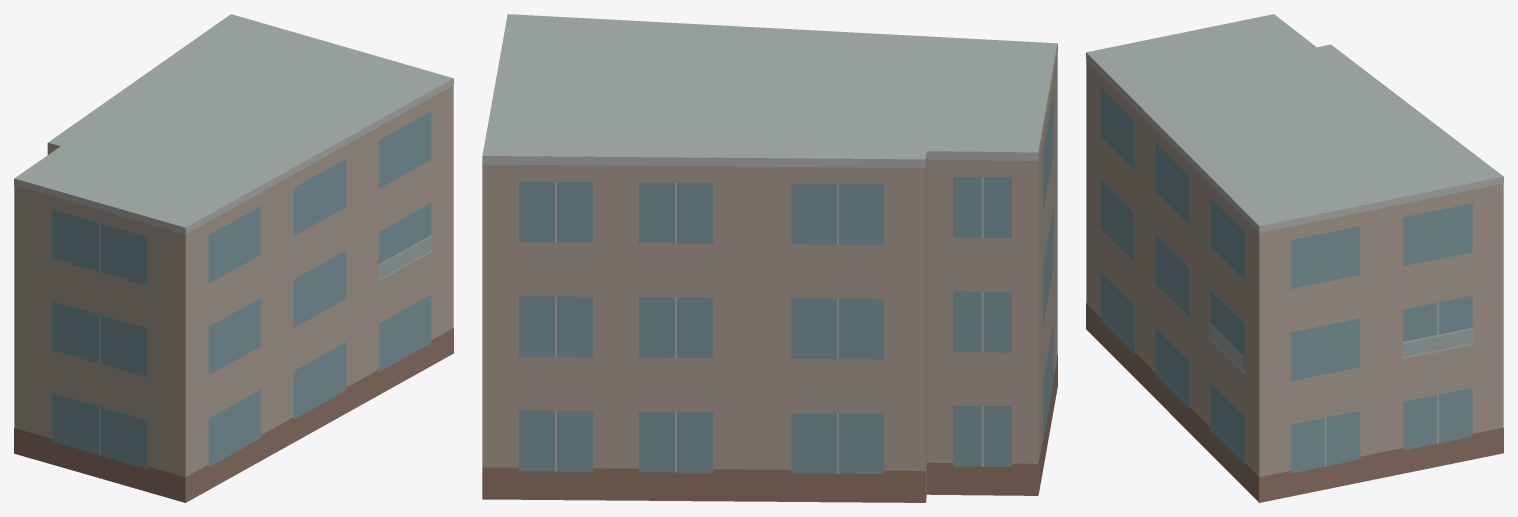
The model's file is survey-upis-33029918.glb.
3 views of the same model, side by side, from view 1: azimuth 30°, elevation 25°; view 2: azimuth 150°, elevation 25°; view 3: azimuth 270°, elevation 25° (orthographic). The views are drawn at different scales.
Parts seen in each view (by area): view 1: survey-upis-33029918.tmp; view 2: survey-upis-33029918.tmp; view 3: survey-upis-33029918.tmp.
Part boxes in pixels (x1,y1,x2,y2): survey-upis-33029918.tmp: (14,14,453,502); survey-upis-33029918.tmp: (482,14,1057,502); survey-upis-33029918.tmp: (1086,14,1503,502).
Bounding box in the file's own units: 15.96 × 9.7 × 13.28.
